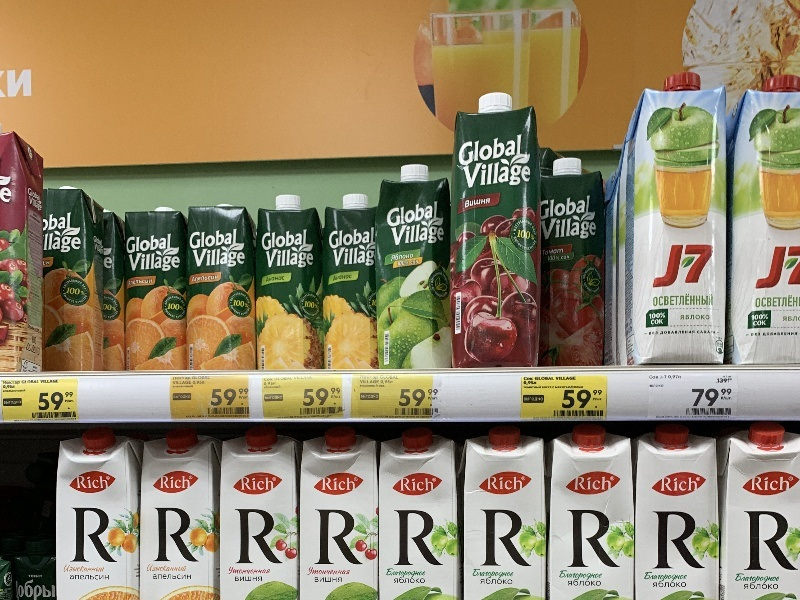juice: (624, 68, 738, 375), (446, 90, 547, 380), (722, 67, 800, 378), (523, 150, 618, 372), (371, 154, 463, 378), (242, 190, 334, 380), (31, 178, 107, 385), (183, 200, 268, 377), (310, 192, 384, 375), (118, 203, 194, 380)
